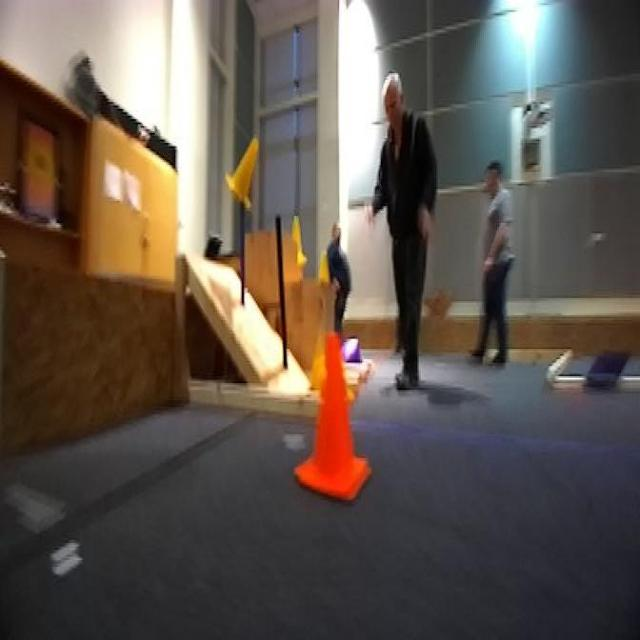frc_cone: (229, 128, 261, 206), (288, 208, 306, 264), (308, 248, 329, 293)
frc_cube: (336, 338, 361, 368)
